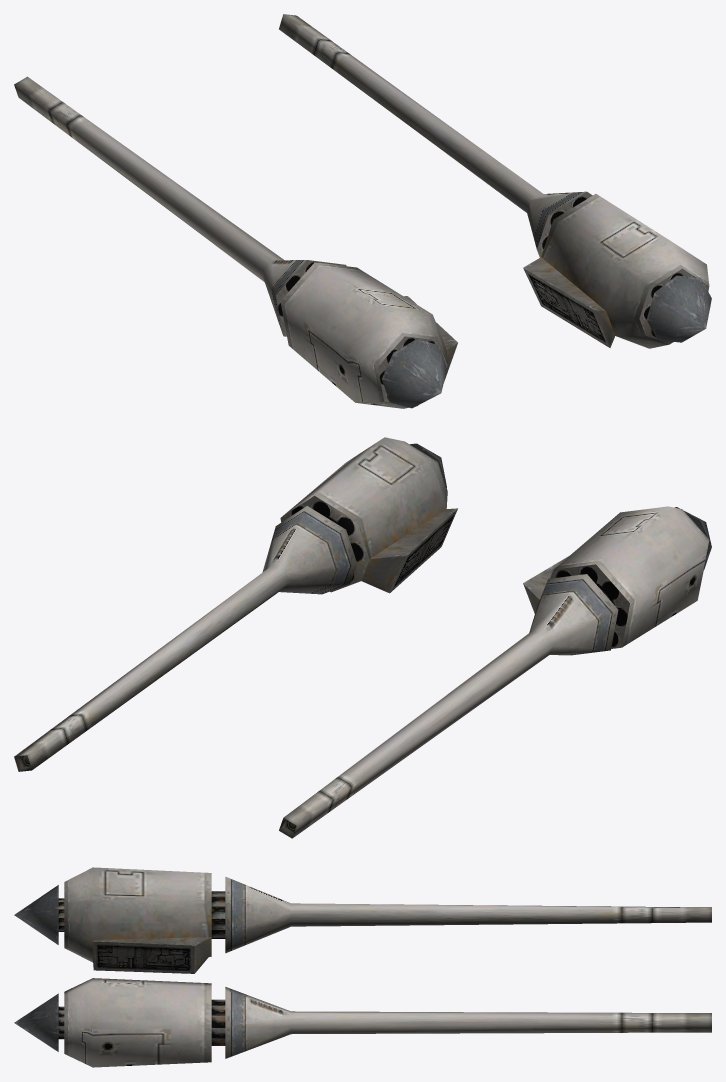
File: hutt_fighter_medium_booster_s02_l1.fbx
3 views of the same model, one above another, from view 1: azimuth 30°, elevation 25°; view 2: azimuth 150°, elevation 25°; view 3: azimuth 270°, elevation 25° (orthographic). The views are drawn at different scales.
Visible parts, largest first — view 1: mesh_node; view 2: mesh_node; view 3: mesh_node.
Boxes of the visible parts, x1,y1,x2,y2 form: mesh_node: (14,14,711,408); mesh_node: (14,437,711,838); mesh_node: (14,867,711,1067).
Bounding box in the file's own units: 4.43 × 1.23 × 8.88.
